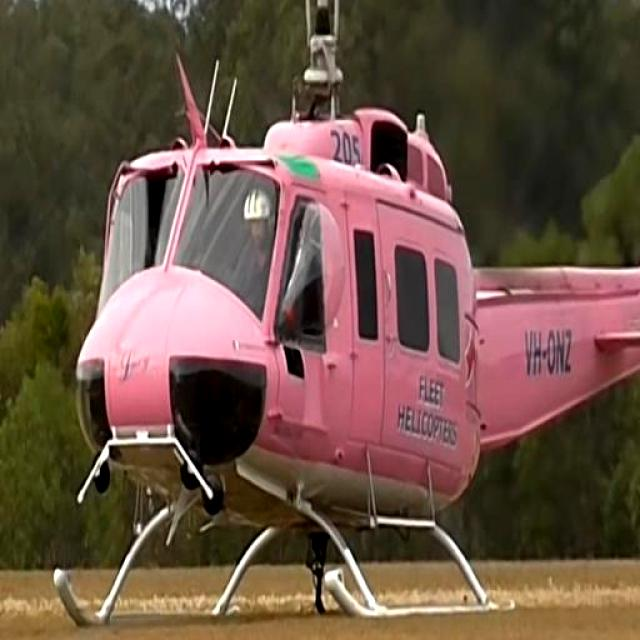drone: (0, 0, 640, 628)
